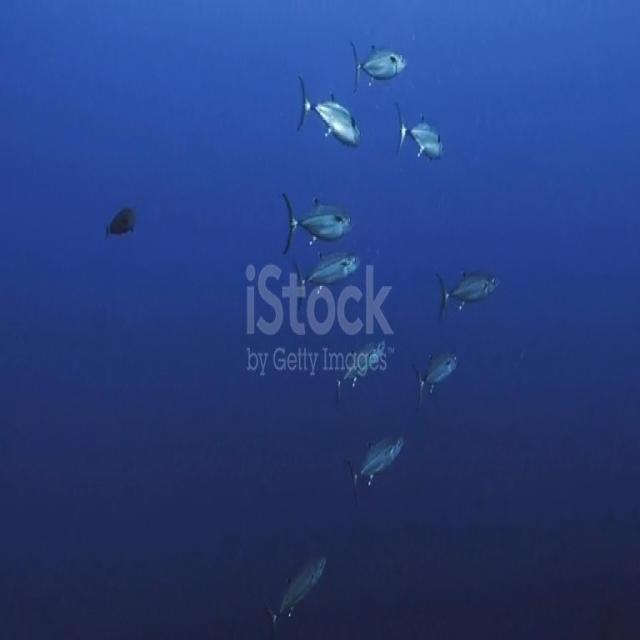fish: (262, 546, 331, 634), (298, 75, 367, 157), (281, 194, 356, 252), (345, 428, 409, 494), (396, 105, 447, 174), (436, 266, 502, 318), (332, 337, 393, 390), (351, 39, 408, 93), (411, 348, 464, 403), (294, 255, 363, 293), (106, 202, 140, 247)
